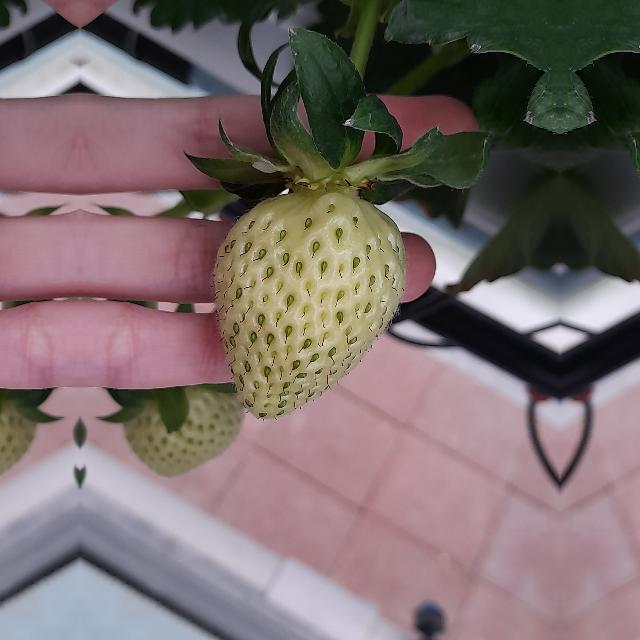Health_25: (214, 193, 406, 419)
